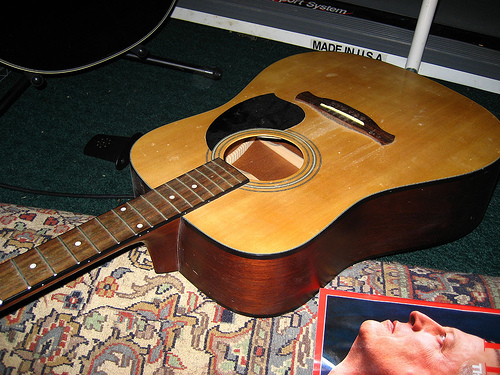guitar: (1, 47, 500, 323)
